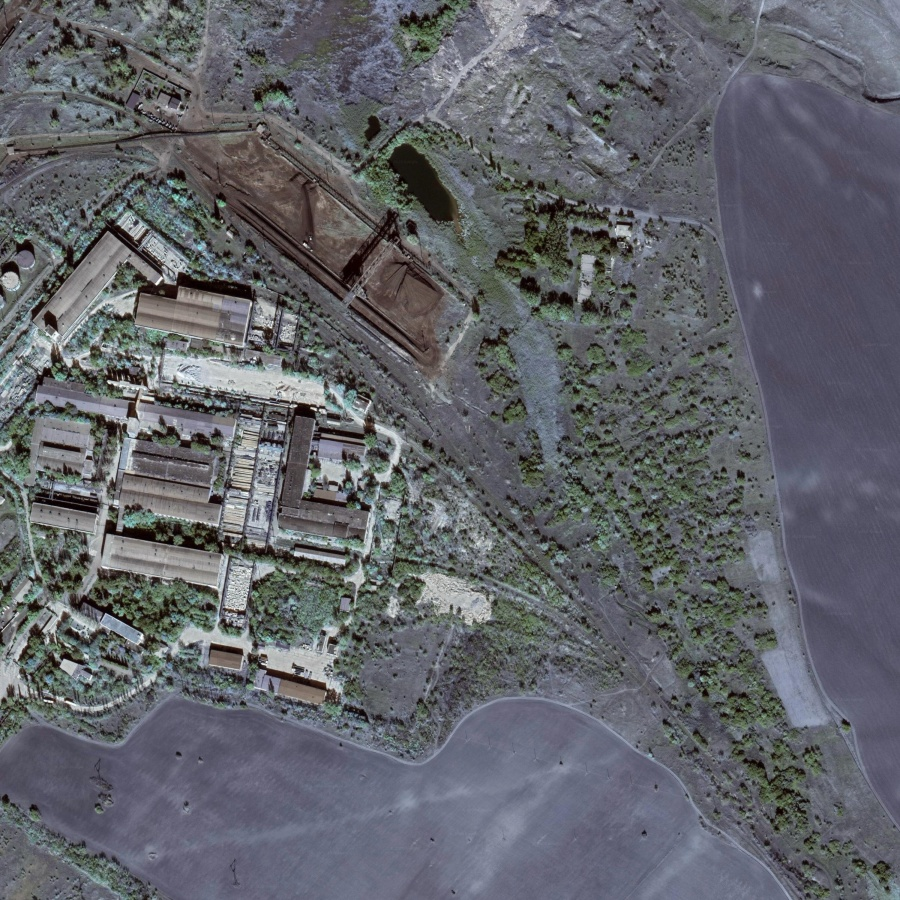PowerPlant: (159, 113, 449, 366)
